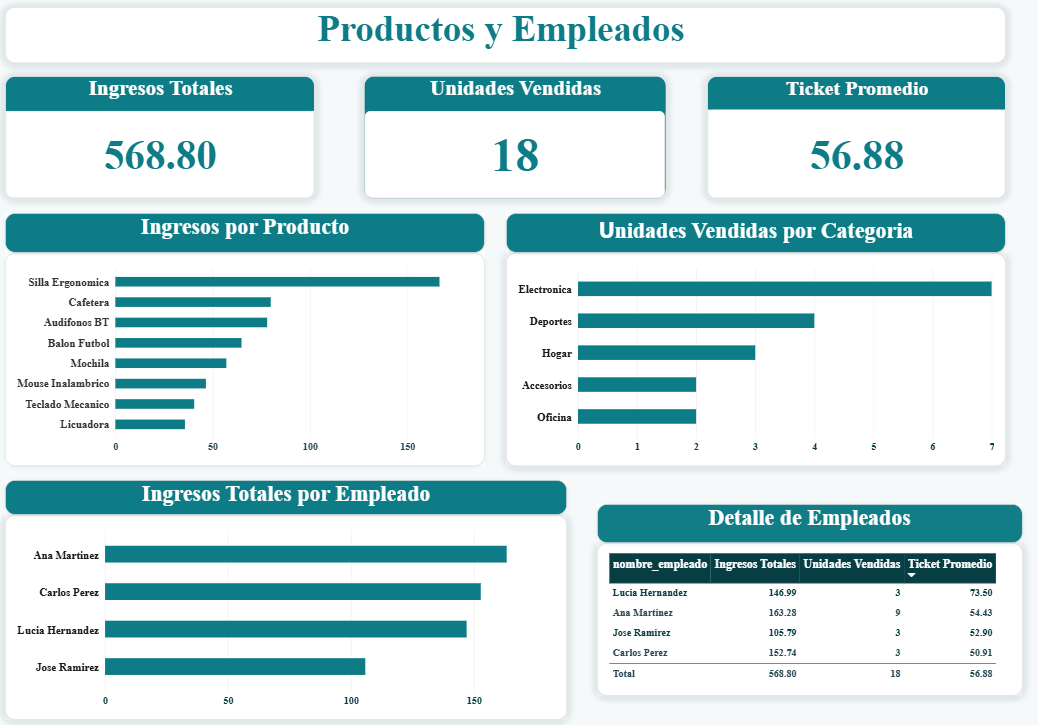

The dashboard page shown, as its layout file describes it:
{"tool":"powerbi","page":{"name":"Productos y Empleados","canvas":[1920,1080],"ordinal":2},"visuals":[{"type":"textbox","box":[10.2,24.8,1460.4,81.7],"z":0},{"type":"barChart","title":"Ingreso por Productos","fields":{"Category":["analisis_ventas vw_ventas_detalle.nombre_producto"],"Y":["analisis_ventas vw_ventas_detalle.Ingresos Totales"]},"box":[10.2,383.7,700.3,310.8],"z":0,"group":"g1"},{"type":"barChart","fields":{"Category":["analisis_ventas vw_ventas_detalle.categoria"],"Y":["analisis_ventas vw_ventas_detalle.Unidades Vendidas"]},"box":[741.2,383.7,729.5,310.8],"z":0,"group":"g2"},{"type":"barChart","fields":{"Category":["analisis_ventas vw_ventas_detalle.nombre_empleado"],"Y":["analisis_ventas vw_ventas_detalle.Ingresos Totales"]},"box":[10.2,766,819.9,299.1],"z":4,"group":"g3"},{"type":"tableEx","fields":{"Values":["analisis_ventas vw_ventas_detalle.nombre_empleado","analisis_ventas vw_ventas_detalle.Ingresos Totales","analisis_ventas vw_ventas_detalle.Unidades Vendidas","analisis_ventas vw_ventas_detalle.Ticket Promedio"]},"box":[874,807,620.5,223.3],"z":7,"group":"g4"},{"type":"textbox","box":[10.2,714.9,819.9,51.1],"z":12,"group":"g3"},{"type":"textbox","box":[874,750,620.5,57],"z":14,"group":"g4"},{"type":"cardVisual","title":"Ingresos Totales","fields":{"Data":["analisis_ventas vw_ventas_detalle.Ingresos Totales"]},"box":[10.2,125.5,452.3,179.5],"z":1000},{"type":"textbox","box":[10.2,325.3,700.3,58.4],"z":1000,"group":"g1"},{"type":"textbox","box":[741.2,325.3,729.5,58.4],"z":1000,"group":"g2"},{"type":"cardVisual","title":"Unidades Vendidas","fields":{"Data":["analisis_ventas vw_ventas_detalle.Unidades Vendidas"]},"box":[534,125.5,440.6,179.5],"z":2000},{"type":"cardVisual","title":"Ticket Promedio ","fields":{"Data":["analisis_ventas vw_ventas_detalle.Ticket Promedio"]},"box":[1034.4,125.5,436.2,179.5],"z":3000},{"type":"group","id":"g1","title":"Grupo 1","box":[10.2,325.3,700.3,369.1],"z":4000},{"type":"group","id":"g2","title":"Grupo 2","box":[741.2,325.3,729.5,369.1],"z":5000},{"type":"group","id":"g3","title":"Grupo 3","box":[10.2,714.9,819.9,350.2],"z":6000},{"type":"group","id":"g4","title":"Grupo 4","box":[874,750,620.5,280.3],"z":7000}]}

Visuals, with their boxes on the page's 1920x1080 design canvas (x1, y1, x2, y2). These are canvas units, not pixel positions in the 1038x725 screenshot, which may show the page scaled, cropped or inside an application window:
textbox: 10:25:1471:106
"Ingreso por Productos" barChart: 10:384:710:694
barChart - analisis_ventas vw_ventas_detalle.categoria x analisis_ventas vw_ventas_detalle.Unidades Vendidas: 741:384:1471:694
barChart - analisis_ventas vw_ventas_detalle.nombre_empleado x analisis_ventas vw_ventas_detalle.Ingresos Totales: 10:766:830:1065
tableEx - analisis_ventas vw_ventas_detalle.nombre_empleado x analisis_ventas vw_ventas_detalle.Ingresos Totales: 874:807:1494:1030
textbox: 10:715:830:766
textbox: 874:750:1494:807
"Ingresos Totales" cardVisual: 10:126:462:305
textbox: 10:325:710:384
textbox: 741:325:1471:384
"Unidades Vendidas" cardVisual: 534:126:975:305
"Ticket Promedio " cardVisual: 1034:126:1471:305
"Grupo 1" group: 10:325:710:694
"Grupo 2" group: 741:325:1471:694
"Grupo 3" group: 10:715:830:1065
"Grupo 4" group: 874:750:1494:1030
